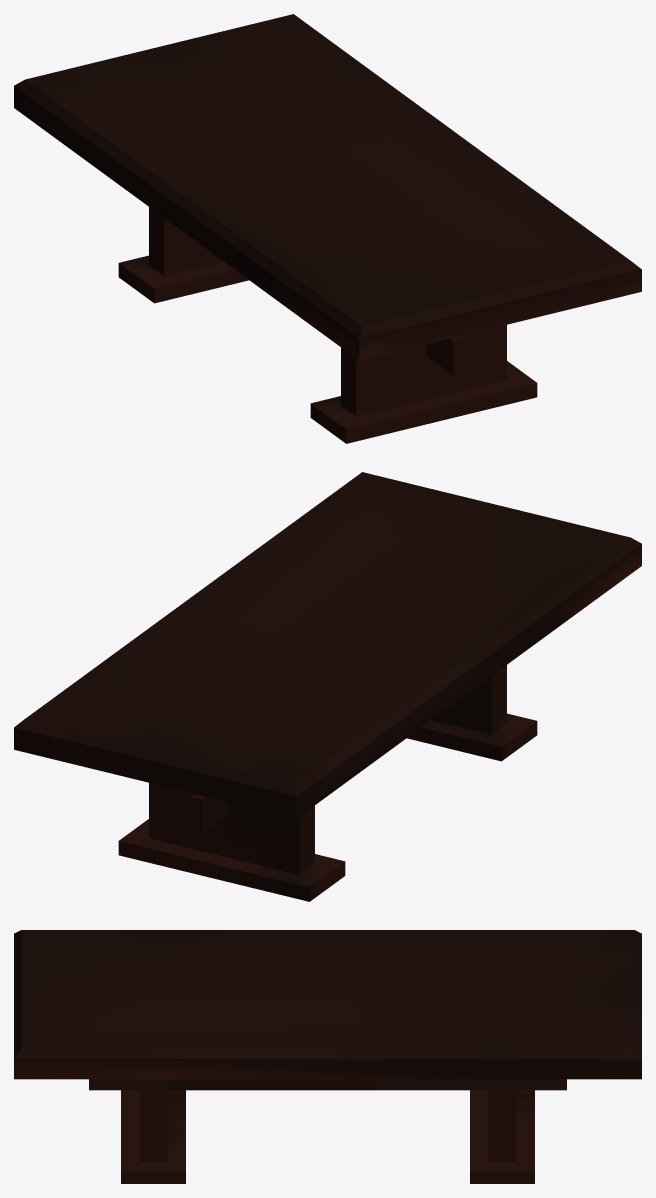
The model's file is table.fbx.
3 views of the same model, one above another, from view 1: azimuth 30°, elevation 25°; view 2: azimuth 150°, elevation 25°; view 3: azimuth 270°, elevation 25° (orthographic). The views are drawn at different scales.
Visible parts, largest first — view 1: table; view 2: table; view 3: table.
Part boxes in pixels (bbox=[...]): table: bbox=[14, 14, 641, 443]; table: bbox=[14, 472, 641, 901]; table: bbox=[14, 930, 641, 1183].
Bounding box in the file's own units: 3.16 × 1.78 × 6.68.
